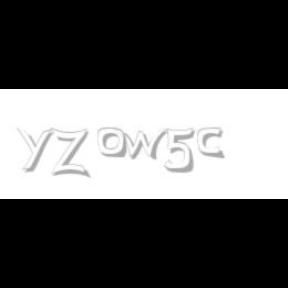5: (164, 128, 194, 174)
Z: (52, 128, 88, 178)
c: (198, 128, 226, 160)
o: (98, 128, 126, 158)
w: (114, 128, 172, 160)
y: (17, 128, 57, 172)
